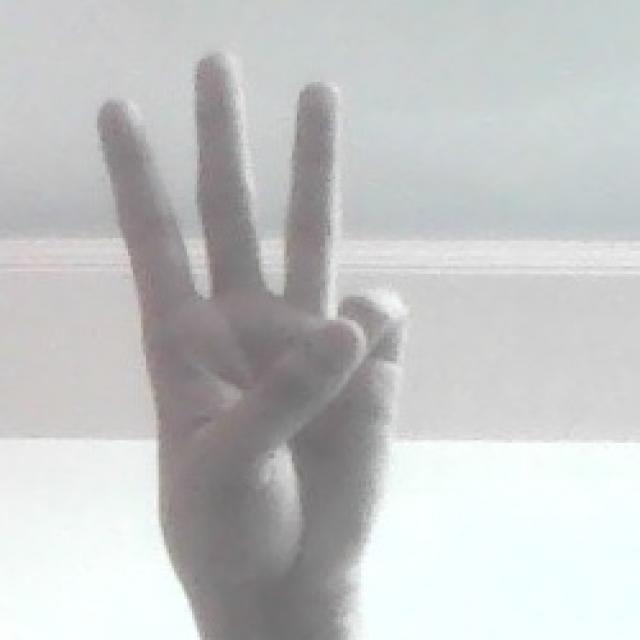Numeric-6: (90, 35, 418, 619)
